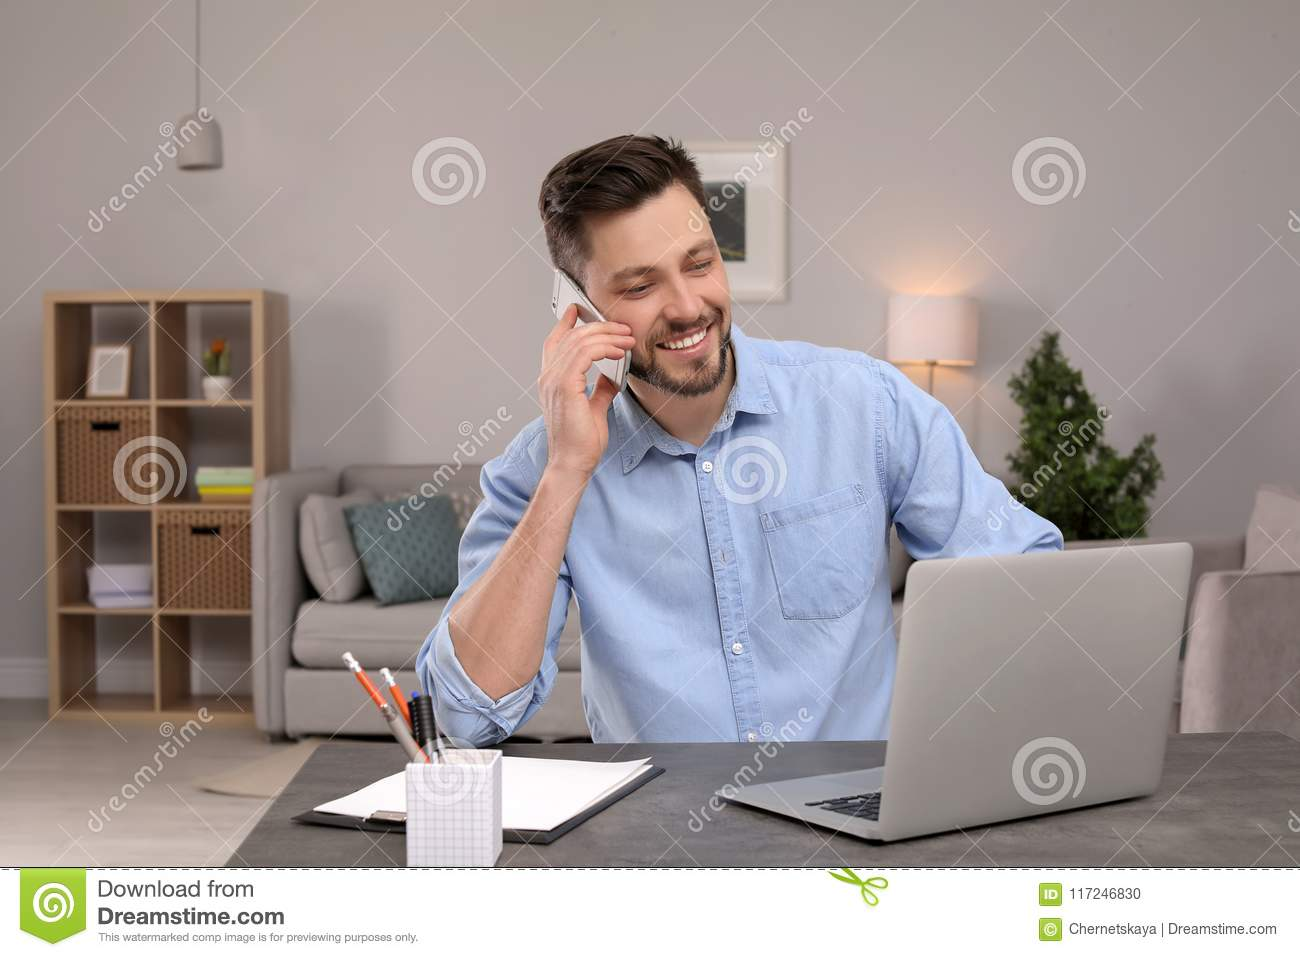phone: (550, 267, 634, 394)
talk: (539, 237, 733, 484)
